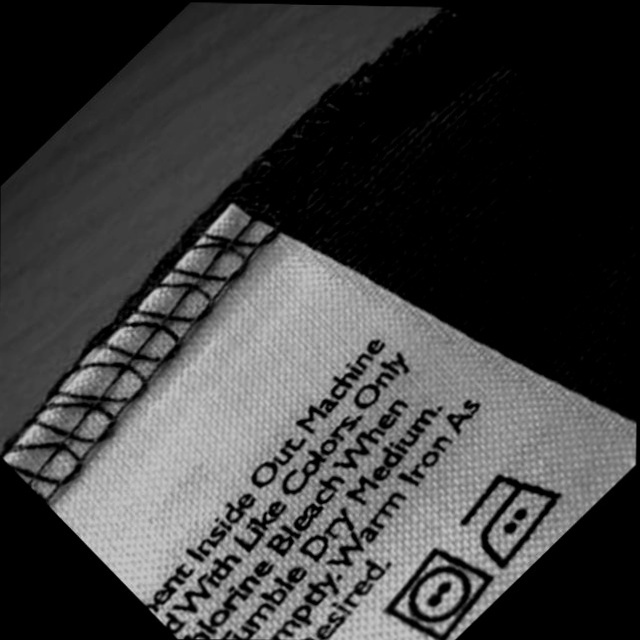iron_medium: (462, 473, 568, 566)
tumble_dry_medium: (386, 549, 497, 639)
